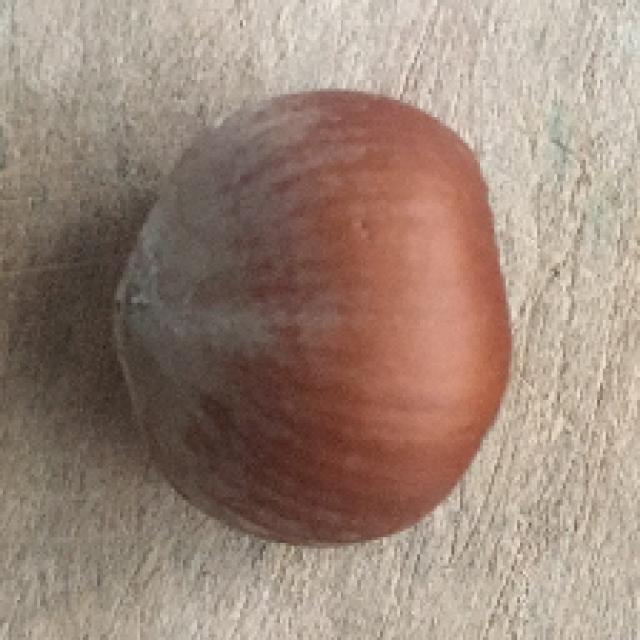qualityHazelnut: (109, 87, 518, 550)
